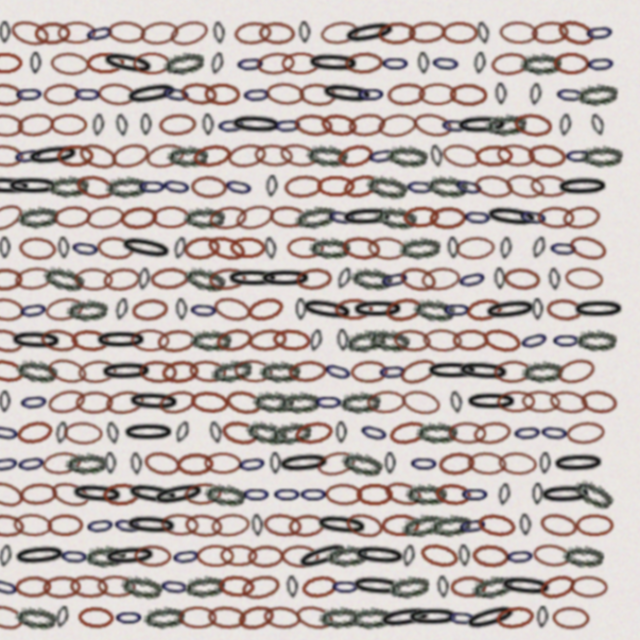chain: (310, 513, 365, 549), (468, 572, 523, 606), (354, 23, 409, 53), (126, 52, 181, 82), (143, 226, 198, 256), (174, 458, 229, 488), (149, 81, 203, 110), (570, 455, 614, 490), (314, 285, 368, 313), (150, 459, 204, 487), (388, 575, 442, 603), (333, 82, 387, 109), (56, 140, 110, 167), (488, 198, 542, 225), (487, 286, 541, 312), (328, 489, 382, 515), (17, 195, 58, 229), (293, 431, 346, 456), (98, 460, 151, 485), (44, 518, 97, 543), (364, 518, 417, 543), (362, 547, 415, 572), (502, 547, 555, 572), (407, 341, 448, 373), (356, 313, 399, 343), (409, 487, 452, 517), (475, 545, 518, 575), (462, 345, 515, 369), (149, 490, 202, 514), (129, 519, 182, 543), (248, 113, 301, 136), (185, 52, 227, 81), (309, 197, 351, 226), (72, 255, 114, 284), (230, 342, 272, 371), (556, 22, 595, 53), (18, 457, 57, 488), (41, 23, 81, 53), (191, 23, 231, 53), (105, 139, 145, 169), (226, 226, 266, 256), (567, 226, 607, 256), (79, 458, 119, 488), (321, 55, 373, 78), (12, 171, 64, 194), (353, 200, 405, 223), (152, 374, 204, 397), (552, 432, 604, 455), (76, 342, 117, 371), (205, 256, 247, 284), (286, 401, 328, 429), (353, 430, 395, 458), (397, 546, 439, 574), (539, 545, 578, 575), (136, 139, 176, 168), (169, 139, 209, 168), (253, 197, 293, 226), (556, 342, 596, 371), (76, 371, 116, 400), (330, 429, 370, 458), (393, 458, 433, 487), (461, 114, 513, 136), (556, 172, 608, 194), (41, 317, 93, 339), (126, 346, 178, 368), (540, 462, 592, 484), (263, 401, 305, 428), (354, 168, 393, 197), (232, 284, 271, 313), (264, 284, 303, 313), (427, 516, 466, 545), (18, 574, 57, 603), (255, 574, 294, 603), (421, 111, 460, 139), (448, 140, 487, 168), (38, 172, 90, 193), (103, 169, 142, 197), (245, 259, 297, 280), (276, 259, 328, 280), (363, 288, 415, 309), (571, 288, 623, 309), (121, 317, 173, 338), (486, 314, 525, 342), (433, 346, 485, 367), (181, 372, 220, 400), (410, 372, 449, 400), (470, 375, 522, 396), (147, 404, 199, 425), (398, 401, 437, 429), (357, 488, 396, 516), (540, 488, 579, 516), (259, 546, 298, 574), (310, 575, 349, 603), (415, 578, 467, 599), (508, 169, 548, 196), (575, 83, 616, 109), (377, 170, 418, 196), (437, 489, 478, 515), (146, 547, 187, 573), (349, 140, 387, 168), (408, 256, 446, 284), (19, 314, 57, 342), (244, 372, 282, 400), (246, 140, 285, 167), (295, 140, 334, 167), (74, 285, 113, 312), (18, 343, 57, 370), (394, 285, 432, 312), (235, 314, 273, 341), (47, 401, 85, 428), (240, 401, 278, 428), (167, 430, 205, 457), (489, 112, 530, 137), (48, 199, 89, 224), (408, 228, 449, 253), (379, 315, 420, 340), (47, 344, 88, 369), (339, 518, 380, 543), (205, 547, 246, 572), (167, 576, 208, 601), (388, 112, 427, 138), (213, 141, 252, 167), (131, 373, 170, 399), (549, 373, 588, 399), (309, 402, 348, 428), (481, 489, 520, 515), (164, 25, 202, 51), (334, 25, 372, 51), (479, 170, 517, 196), (113, 199, 151, 225), (229, 199, 267, 225), (70, 315, 108, 341), (478, 402, 516, 428), (499, 576, 537, 602), (429, 257, 468, 282), (334, 112, 371, 138), (471, 286, 508, 312), (316, 547, 353, 573), (132, 171, 172, 195), (386, 200, 426, 224), (95, 287, 135, 311), (422, 287, 462, 311), (524, 345, 564, 369), (295, 374, 335, 398), (352, 374, 392, 398), (225, 461, 265, 485), (112, 519, 152, 543), (47, 577, 87, 601), (362, 577, 402, 601), (516, 112, 554, 137), (500, 141, 538, 166), (529, 141, 567, 166), (562, 199, 600, 224), (354, 228, 392, 253), (46, 257, 84, 282), (564, 257, 602, 282), (19, 286, 57, 311), (266, 315, 304, 340), (72, 431, 110, 456), (231, 489, 269, 514), (280, 489, 318, 514), (534, 518, 572, 543), (202, 83, 239, 108), (48, 112, 85, 137), (360, 112, 397, 137), (123, 228, 160, 253), (205, 228, 242, 253), (579, 373, 616, 398), (445, 431, 482, 456), (335, 343, 368, 371), (21, 546, 54, 574), (321, 142, 361, 165), (77, 171, 117, 194), (434, 171, 474, 194), (363, 258, 403, 281), (94, 432, 134, 455), (333, 577, 373, 600), (80, 55, 118, 79), (124, 84, 162, 108), (309, 113, 347, 137), (379, 229, 417, 253), (180, 316, 218, 340), (211, 374, 249, 398), (206, 490, 244, 514), (520, 314, 553, 341), (369, 401, 402, 428), (274, 55, 311, 79), (19, 84, 56, 108), (314, 84, 351, 108), (19, 113, 56, 137), (19, 142, 56, 166), (145, 200, 182, 224), (50, 229, 87, 253), (129, 258, 166, 282), (229, 258, 266, 282), (156, 287, 193, 311), (99, 316, 136, 340), (106, 345, 143, 369), (184, 345, 221, 369), (210, 345, 247, 369), (304, 345, 341, 369), (566, 403, 603, 427), (19, 490, 56, 514), (280, 577, 317, 601), (580, 143, 620, 165), (462, 229, 500, 252), (431, 316, 469, 339), (378, 374, 416, 397), (473, 432, 511, 455), (45, 490, 83, 513), (253, 26, 289, 50), (495, 55, 531, 79), (311, 258, 347, 282), (507, 258, 543, 282), (547, 287, 583, 311), (403, 316, 439, 340), (442, 461, 478, 485), (304, 490, 340, 514), (523, 56, 562, 78), (190, 143, 229, 165), (397, 143, 436, 165), (206, 201, 245, 223), (277, 346, 316, 368), (563, 520, 602, 542), (134, 26, 171, 49), (417, 26, 454, 49), (503, 26, 540, 49), (357, 55, 394, 78), (283, 84, 320, 107), (397, 84, 434, 107), (182, 113, 219, 136), (272, 142, 309, 165), (300, 171, 337, 194), (532, 171, 569, 194), (286, 200, 323, 223), (174, 258, 211, 281), (289, 316, 326, 339), (253, 345, 290, 368), (524, 374, 561, 397), (502, 432, 539, 455), (51, 461, 88, 484), (184, 490, 221, 513), (98, 548, 135, 571), (124, 548, 161, 571), (228, 577, 265, 600), (111, 25, 143, 51), (242, 170, 274, 196), (459, 170, 491, 196), (389, 257, 421, 283), (462, 257, 494, 283), (533, 26, 569, 49), (83, 200, 119, 223), (412, 200, 448, 223), (129, 461, 165, 484), (206, 461, 242, 484), (477, 519, 513, 542), (238, 548, 274, 571), (324, 230, 363, 251), (212, 317, 251, 338), (575, 317, 614, 338), (271, 375, 310, 396), (425, 404, 464, 425), (415, 462, 454, 483), (388, 27, 425, 49), (73, 85, 110, 107), (163, 346, 200, 368), (93, 404, 130, 426), (183, 83, 215, 108), (377, 141, 409, 166), (22, 402, 54, 427), (276, 27, 312, 49), (456, 85, 492, 107), (480, 143, 516, 165), (212, 172, 248, 194), (103, 259, 139, 281), (363, 346, 399, 368), (498, 346, 534, 368), (104, 375, 140, 397), (455, 404, 491, 426), (339, 462, 375, 484), (159, 520, 195, 542), (298, 520, 334, 542), (73, 549, 109, 571), (570, 549, 606, 571), (553, 578, 589, 600), (156, 317, 193, 338), (44, 141, 75, 166), (184, 170, 215, 195), (340, 199, 371, 224), (520, 199, 551, 224), (47, 431, 78, 456), (65, 27, 100, 49), (437, 201, 472, 223), (539, 201, 574, 223), (20, 259, 55, 281), (199, 433, 234, 455), (266, 520, 301, 542), (47, 549, 82, 571), (457, 549, 492, 571), (106, 578, 141, 600), (87, 27, 123, 48), (114, 56, 150, 77), (158, 56, 194, 77), (298, 56, 334, 77), (427, 85, 463, 106), (331, 172, 367, 193), (176, 201, 212, 222), (348, 288, 384, 309), (501, 375, 537, 396), (225, 433, 261, 454), (392, 491, 428, 512), (575, 491, 611, 512), (218, 520, 254, 541), (240, 520, 276, 541), (201, 578, 237, 599), (98, 229, 129, 253), (49, 287, 80, 311), (22, 432, 53, 456), (255, 432, 286, 456), (112, 490, 143, 514), (138, 490, 169, 514), (463, 490, 494, 514), (193, 519, 224, 543), (449, 27, 484, 48), (20, 56, 55, 77), (554, 56, 589, 77), (225, 85, 260, 106), (80, 114, 115, 135), (86, 143, 121, 164), (249, 230, 284, 251), (303, 230, 338, 251), (459, 317, 494, 338), (368, 462, 403, 483), (77, 491, 112, 512), (540, 403, 571, 426), (182, 548, 213, 571), (583, 26, 613, 49), (438, 55, 468, 78), (468, 200, 498, 223), (50, 374, 80, 397), (515, 403, 545, 426), (254, 56, 284, 78), (584, 56, 614, 78), (260, 85, 290, 107), (555, 85, 585, 107), (236, 114, 266, 136), (289, 114, 319, 136), (447, 114, 477, 136), (414, 172, 444, 194), (549, 230, 579, 252), (210, 288, 240, 310), (388, 346, 418, 368), (88, 520, 118, 542), (508, 520, 538, 542), (453, 578, 483, 600), (391, 56, 420, 77), (46, 85, 75, 106), (101, 85, 130, 106), (368, 85, 397, 106), (564, 143, 593, 164), (162, 172, 191, 193), (449, 288, 478, 309), (552, 317, 581, 338), (328, 375, 357, 396), (418, 433, 447, 454), (260, 462, 289, 483), (289, 462, 318, 483), (314, 462, 343, 483), (466, 462, 495, 483), (344, 549, 373, 570), (140, 578, 169, 599), (348, 258, 366, 281), (588, 113, 605, 136), (532, 229, 549, 252), (196, 403, 213, 426), (140, 287, 155, 310), (229, 403, 244, 426), (84, 577, 99, 600), (481, 27, 496, 49), (230, 56, 245, 78), (437, 143, 452, 165), (195, 230, 210, 252), (323, 317, 338, 339), (132, 404, 147, 426), (141, 114, 155, 136), (281, 230, 295, 252), (456, 375, 470, 397), (84, 404, 98, 426), (501, 462, 515, 484), (31, 520, 45, 542), (411, 520, 425, 542), (233, 27, 246, 49), (531, 85, 544, 107), (119, 114, 132, 136), (559, 114, 572, 136), (503, 230, 516, 252), (162, 259, 175, 281), (549, 259, 562, 281), (155, 433, 168, 455), (269, 491, 282, 513), (302, 549, 315, 571), (444, 549, 457, 571), (464, 520, 477, 541), (314, 27, 326, 48), (426, 56, 438, 77), (479, 56, 491, 77), (499, 85, 511, 106), (223, 114, 235, 135), (283, 172, 295, 193), (87, 230, 99, 251), (454, 230, 466, 251), (498, 259, 510, 280), (198, 288, 210, 309), (350, 317, 362, 338), (131, 433, 143, 454), (522, 491, 534, 512), (538, 578, 550, 599), (32, 27, 43, 48), (61, 56, 72, 77), (165, 114, 176, 135), (32, 230, 43, 251), (311, 288, 322, 309), (534, 288, 545, 309), (32, 375, 43, 396), (349, 404, 360, 425), (287, 433, 298, 454), (395, 433, 406, 454), (541, 433, 552, 454), (534, 462, 545, 483)
noise: (3, 83, 23, 103), (0, 379, 19, 399)
